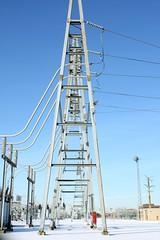power_tower: (43, 1, 120, 232)
